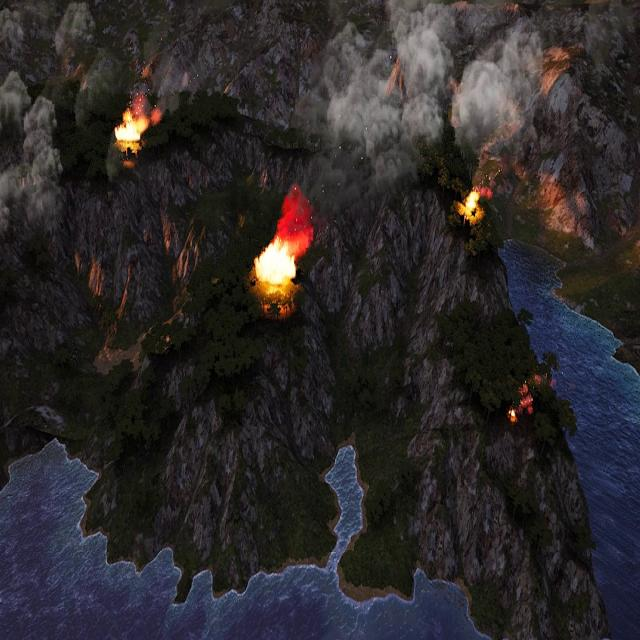fire: (254, 234, 299, 292), (115, 107, 150, 149), (461, 190, 481, 219), (518, 384, 534, 416), (509, 407, 519, 424)
smoke: (302, 0, 545, 188), (0, 70, 62, 250), (276, 182, 314, 256), (55, 0, 96, 54)
